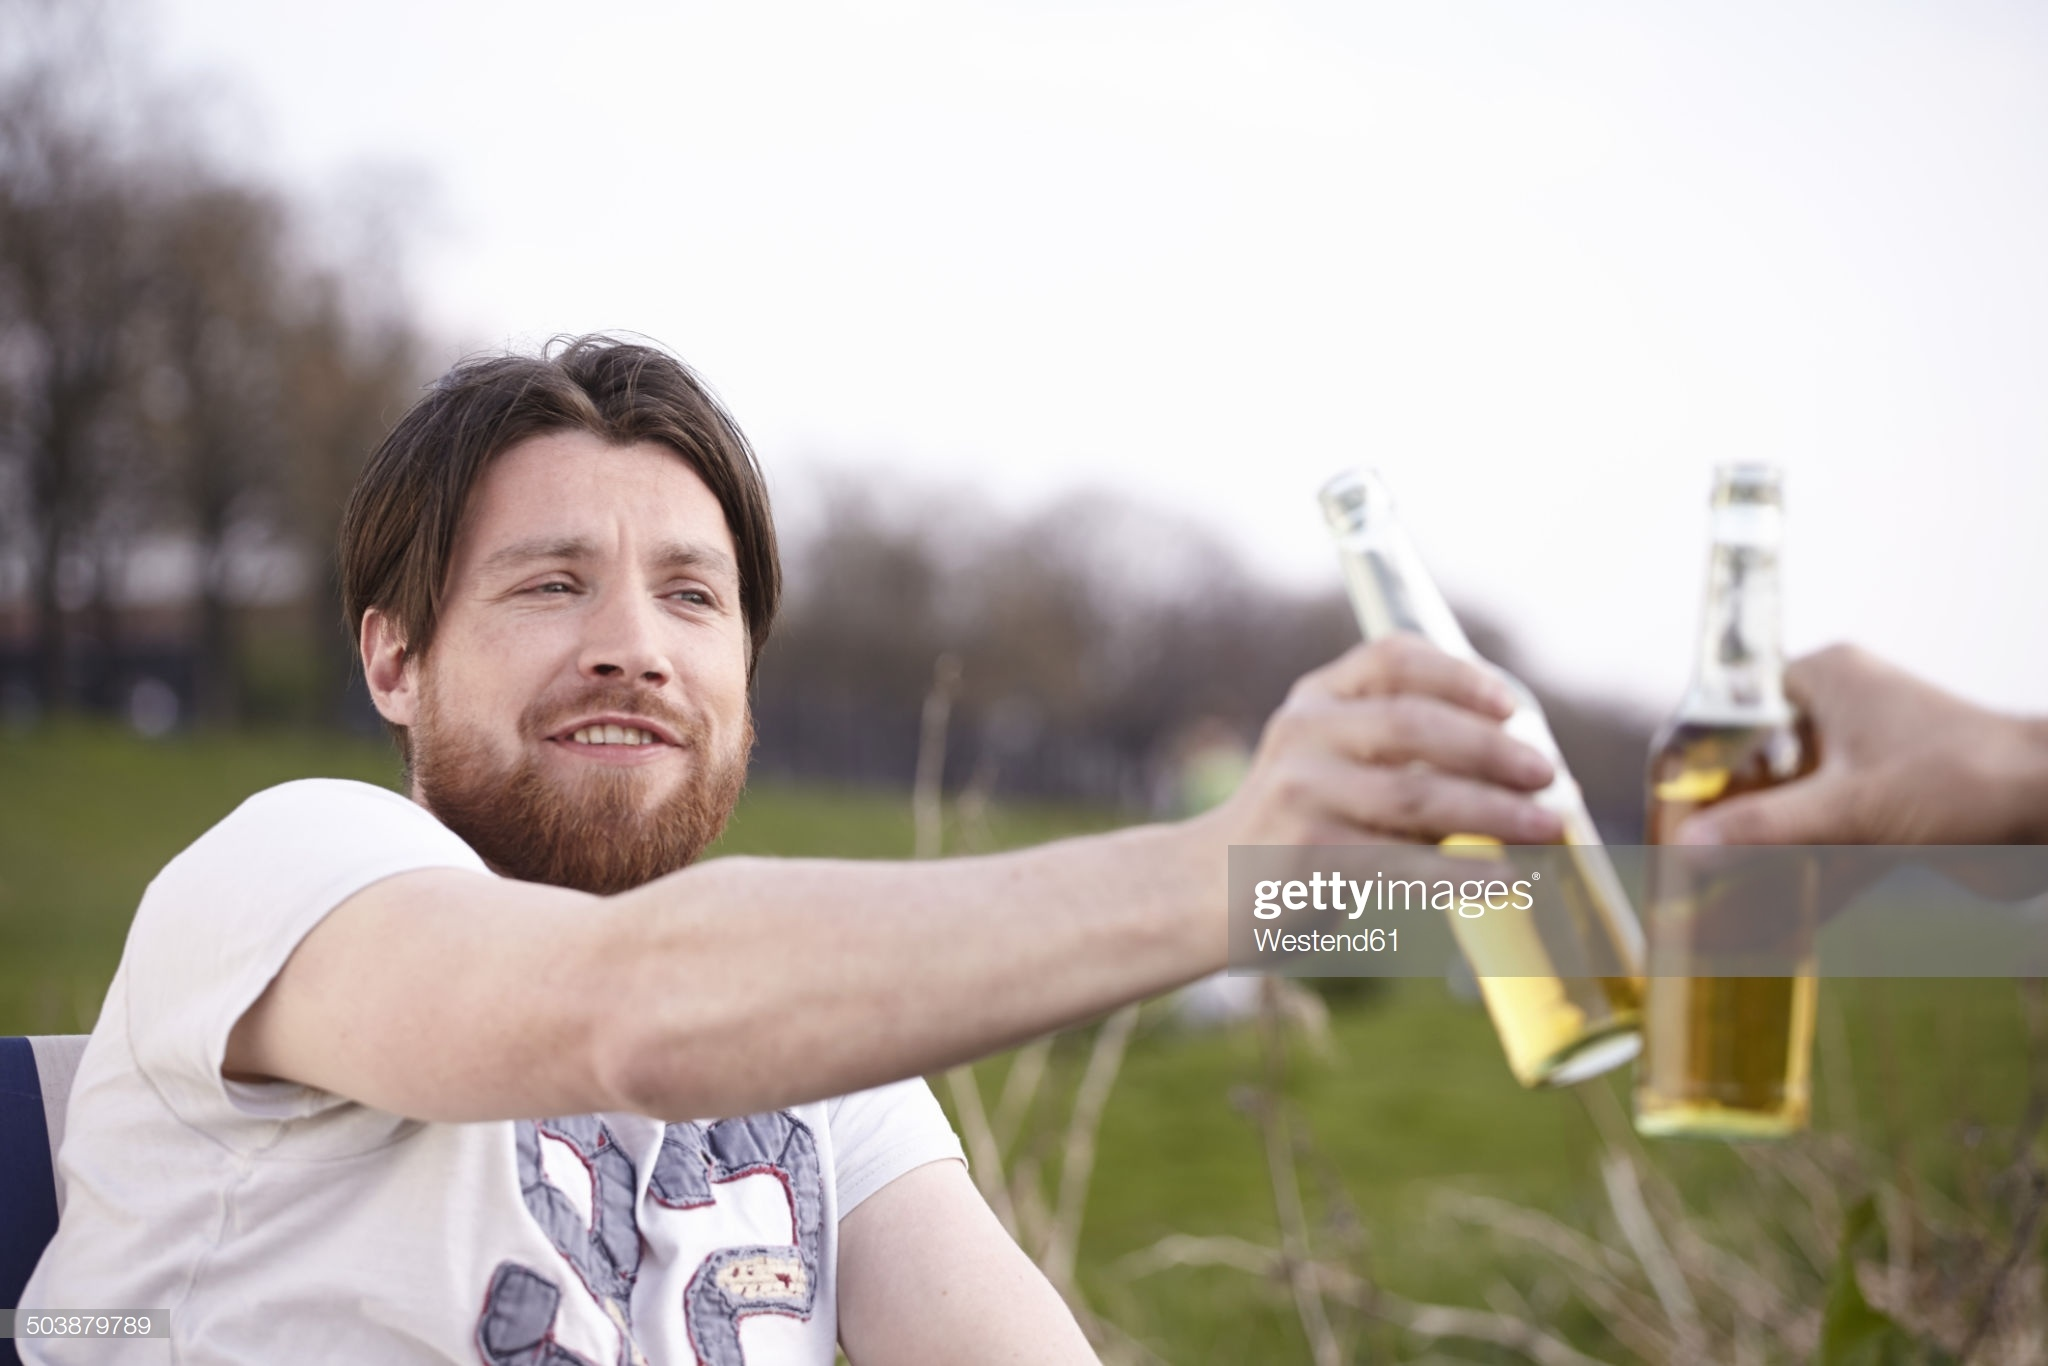beerBottle: (1307, 471, 1630, 1093), (1646, 467, 1809, 1133)
